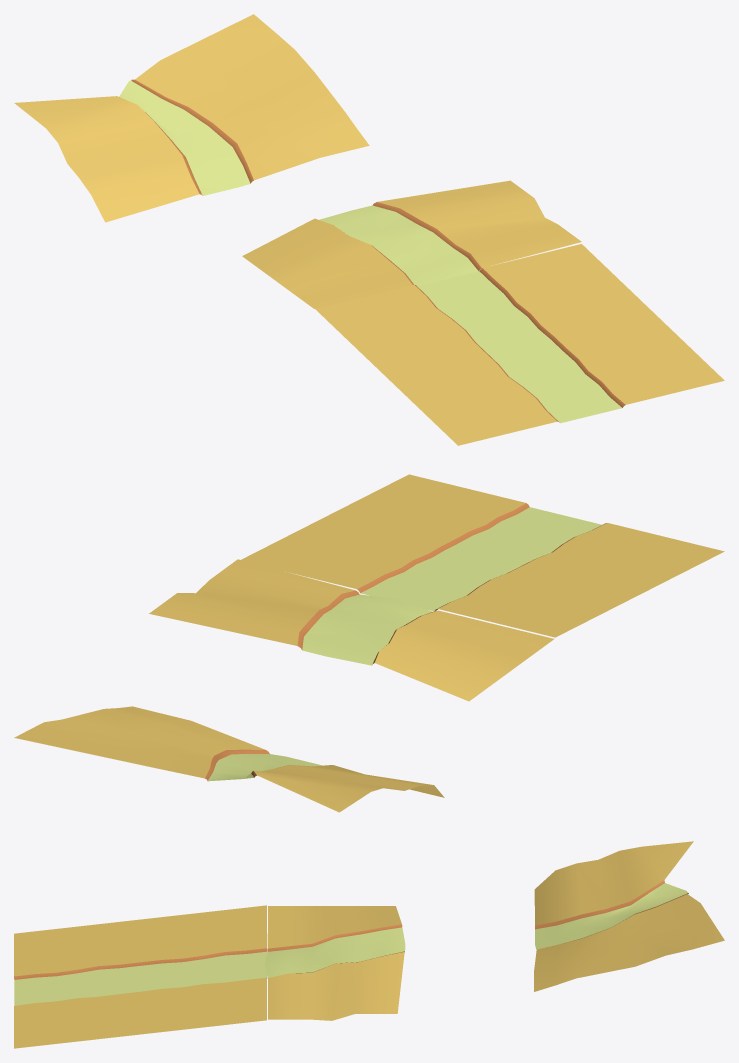
File: Floor.fbx
3 views of the same model, one above another, from view 1: azimuth 30°, elevation 25°; view 2: azimuth 150°, elevation 25°; view 3: azimuth 270°, elevation 25° (orthographic). The views are drawn at different scales.
Parts seen in each view (by area): view 1: Floor.004, Floor.001, Floor, Floor.002; view 2: Floor.001, Floor.002, Floor, Floor.004; view 3: Floor.004, Floor.001, Floor.002, Floor.
Boxes of the visible parts, x1=… form: Floor.004: x1=14, y1=14, x2=369, y2=222; Floor.001: x1=242, y1=180, x2=581, y2=308; Floor: x1=315, y1=244, x2=652, y2=377; Floor.002: x1=387, y1=312, x2=724, y2=445; Floor.001: x1=149, y1=559, x2=553, y2=701; Floor.002: x1=325, y1=474, x2=724, y2=594; Floor: x1=241, y1=517, x2=639, y2=637; Floor.004: x1=14, y1=706, x2=444, y2=812; Floor.004: x1=534, y1=841, x2=724, y2=991; Floor.001: x1=265, y1=906, x2=405, y2=1020; Floor.002: x1=14, y1=919, x2=140, y2=1048; Floor: x1=140, y1=905, x2=267, y2=1034.
Bounding box in the file's own units: 3167 × 837 × 6682.
